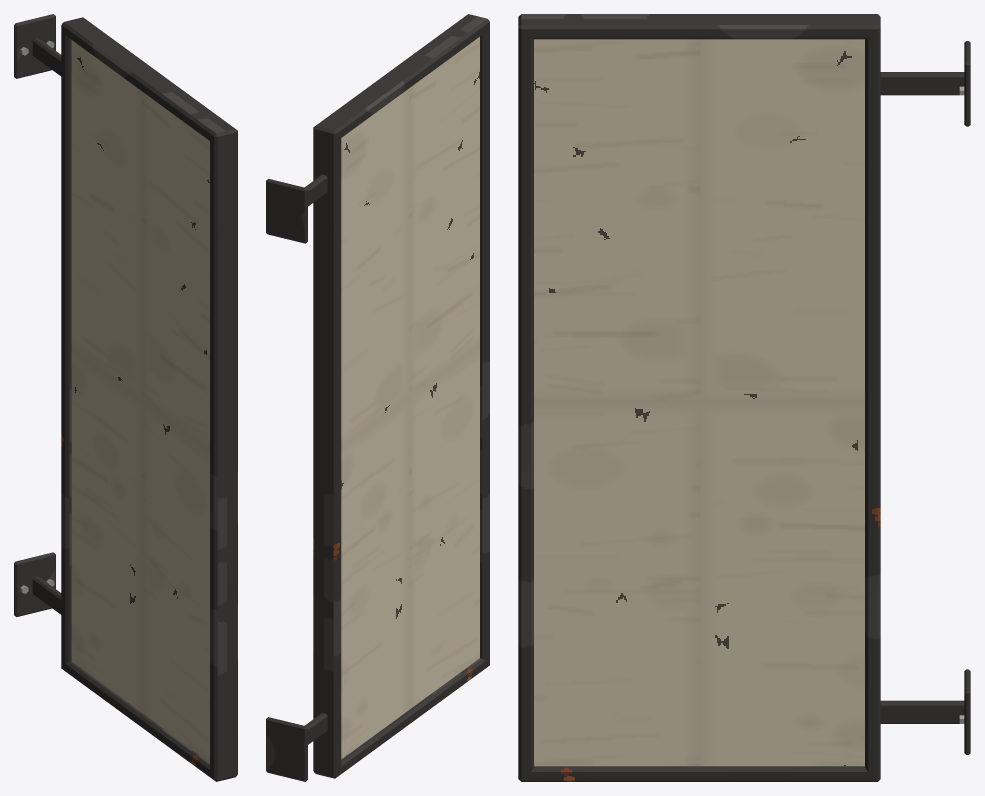
File: blade_sign.glb
3 views of the same model, side by side, from view 1: azimuth 30°, elevation 25°; view 2: azimuth 150°, elevation 25°; view 3: azimuth 270°, elevation 25° (orthographic). The views are drawn at different scales.
Parts seen in each view (by area): view 1: p; view 2: p; view 3: p.
Part boxes in pixels (x1,y1,x2,y2): p: (14,14,237,781); p: (266,14,489,781); p: (518,14,970,781).
Bounding box in the file's own units: 0.07 × 1.06 × 0.574.
Materials: 3 (3 with a texture image).
